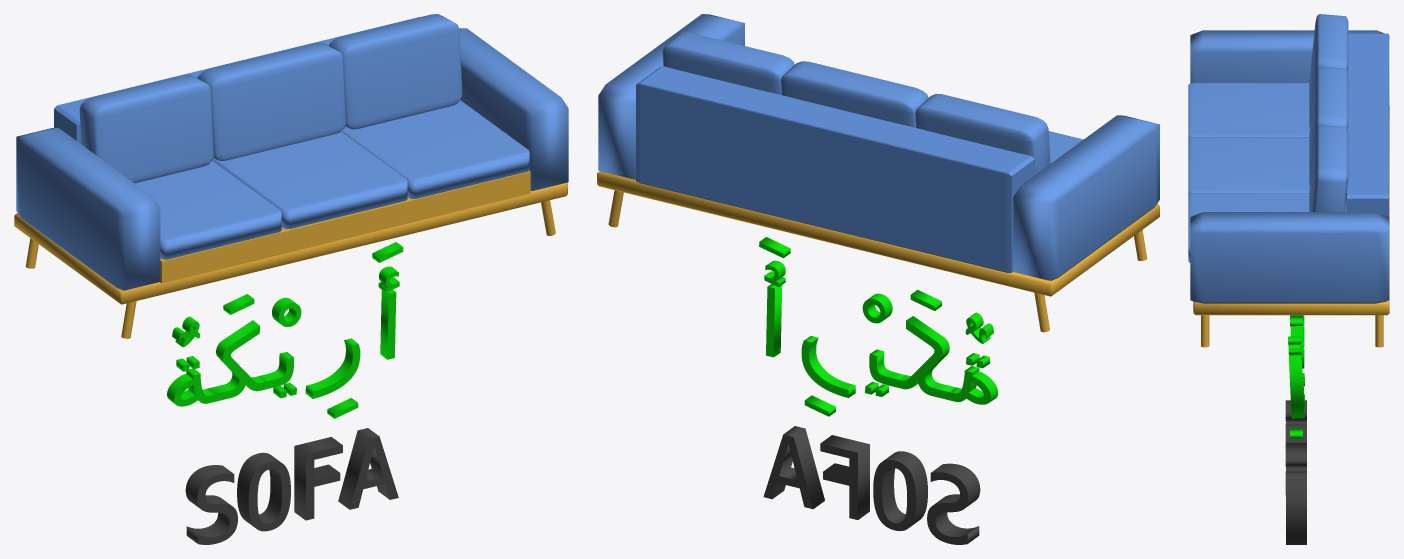
The model's file is sofa.fbx.
The picture shows the model from 3 angles, left to right: view 1: azimuth 30°, elevation 25°; view 2: azimuth 150°, elevation 25°; view 3: azimuth 270°, elevation 25°; orthographic projection. The views are drawn at different scales.
Visible parts, largest first — view 1: Cube.003, Cube, Cube.009, Cube.008, Cube.007, Teks.005, Cube.005, Cube.006, Cube.001, Cube.002, Text, Cube.004 (+2 smaller); view 2: Cube.004, Cube.003, Teks.005, Cube, Text, Cube.001, Cube.009, Cube.007, Cube.008, Cylinder, Teks.002; view 3: Cube.001, Cube.004, Cube.005, Cube.003, Cube.002, Cube.008, Teks.005, Cube, Cube.006, Cube.009, Cube.007, Text (+1 smaller).
Boxes of the visible parts, <box> form: Cube.003: <box>16,127,160,290</box>; Cube: <box>14,171,567,304</box>; Cube.009: <box>197,42,345,160</box>; Cube.008: <box>329,14,462,129</box>; Cube.007: <box>79,74,213,183</box>; Teks.005: <box>185,428,398,544</box>; Cube.005: <box>212,131,407,229</box>; Cube.006: <box>341,100,529,198</box>; Cube.001: <box>459,28,568,190</box>; Cube.002: <box>135,160,281,259</box>; Text: <box>167,266,399,406</box>; Cube.004: <box>54,17,419,143</box>; Cube.004: <box>636,66,1034,272</box>; Cube.003: <box>1013,115,1159,280</box>; Teks.005: <box>763,426,980,544</box>; Cube: <box>597,171,1159,296</box>; Text: <box>764,260,997,404</box>; Cube.001: <box>598,14,744,179</box>; Cube.009: <box>781,61,928,127</box>; Cube.007: <box>915,93,1050,174</box>; Cube.008: <box>662,32,794,94</box>; Cylinder: <box>1034,230,1147,332</box>; Teks.002: <box>862,293,892,323</box>; Cube.001: <box>1190,212,1389,303</box>; Cube.004: <box>1346,33,1388,216</box>; Cube.005: <box>1188,137,1309,194</box>; Cube.003: <box>1190,30,1389,118</box>; Cube.002: <box>1188,83,1309,138</box>; Cube.008: <box>1309,124,1348,211</box>; Teks.005: <box>1285,400,1306,544</box>; Cube: <box>1193,106,1389,315</box>; Cube.006: <box>1188,193,1346,262</box>; Cube.009: <box>1309,66,1348,186</box>; Cube.007: <box>1309,14,1348,128</box>; Text: <box>1288,315,1305,418</box>.
Size of the model in its own units: 446 by 425 by 190.
